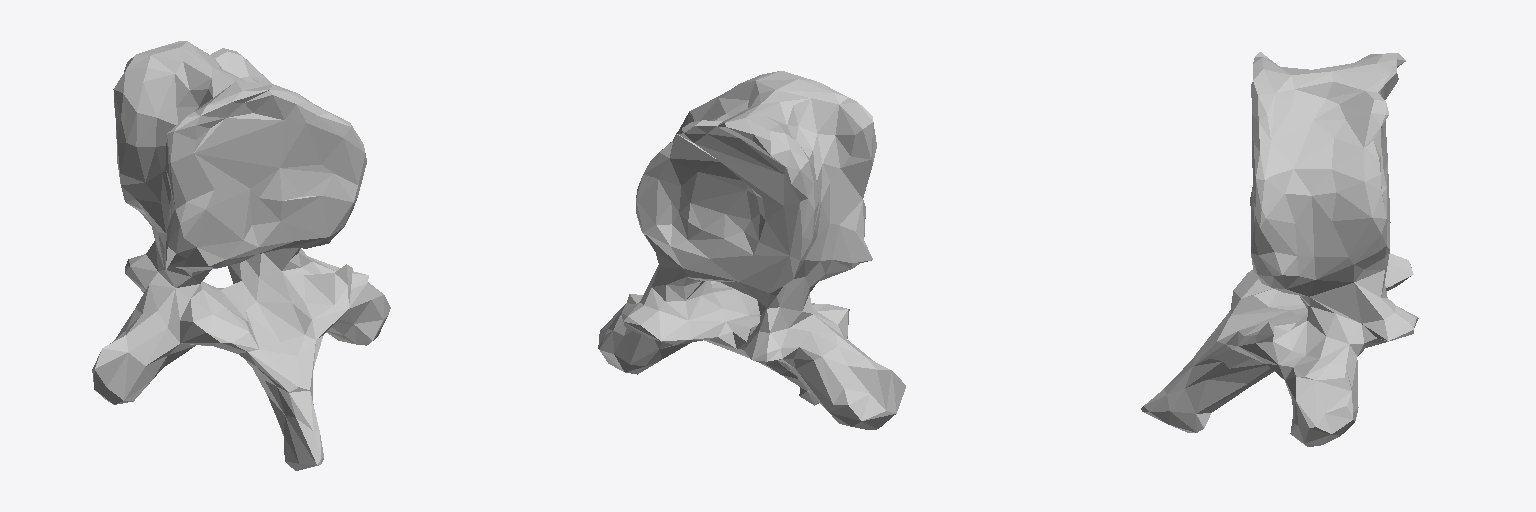
Rendered from transformed_Segment_16.obj.
The picture shows the model from 3 angles: view 1: azimuth 30°, elevation 25°; view 2: azimuth 150°, elevation 25°; view 3: azimuth 270°, elevation 25°; orthographic projection.
Size of the model in its own units: 0.066 by 0.0756 by 0.053.